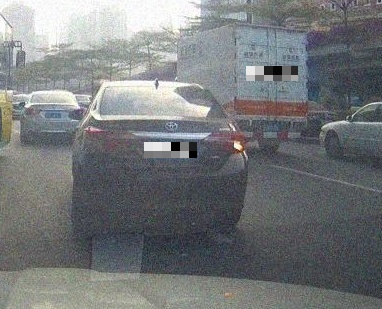L_light: (82, 128, 136, 154)
R_light: (200, 130, 246, 153)
T_light: (150, 111, 179, 116)
day-right: (71, 80, 249, 237)
plate_1: (144, 142, 197, 158)
plate_2: (246, 66, 298, 81)
